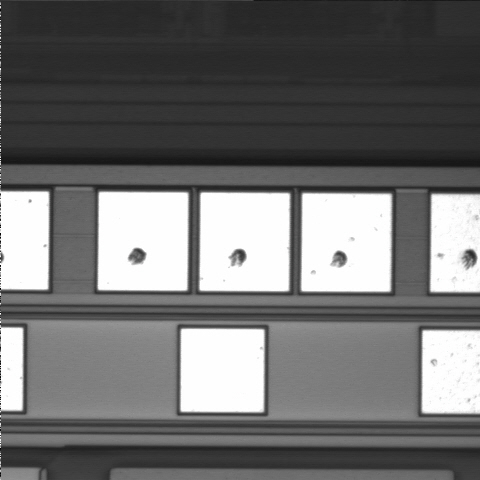pad: (98, 192, 188, 291), (301, 193, 391, 292), (200, 193, 290, 291), (181, 329, 264, 412)
